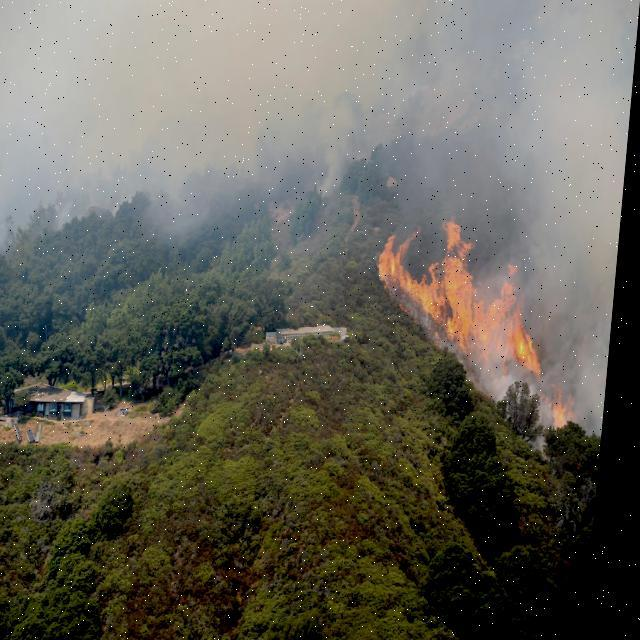Fire: (373, 214, 599, 437)
